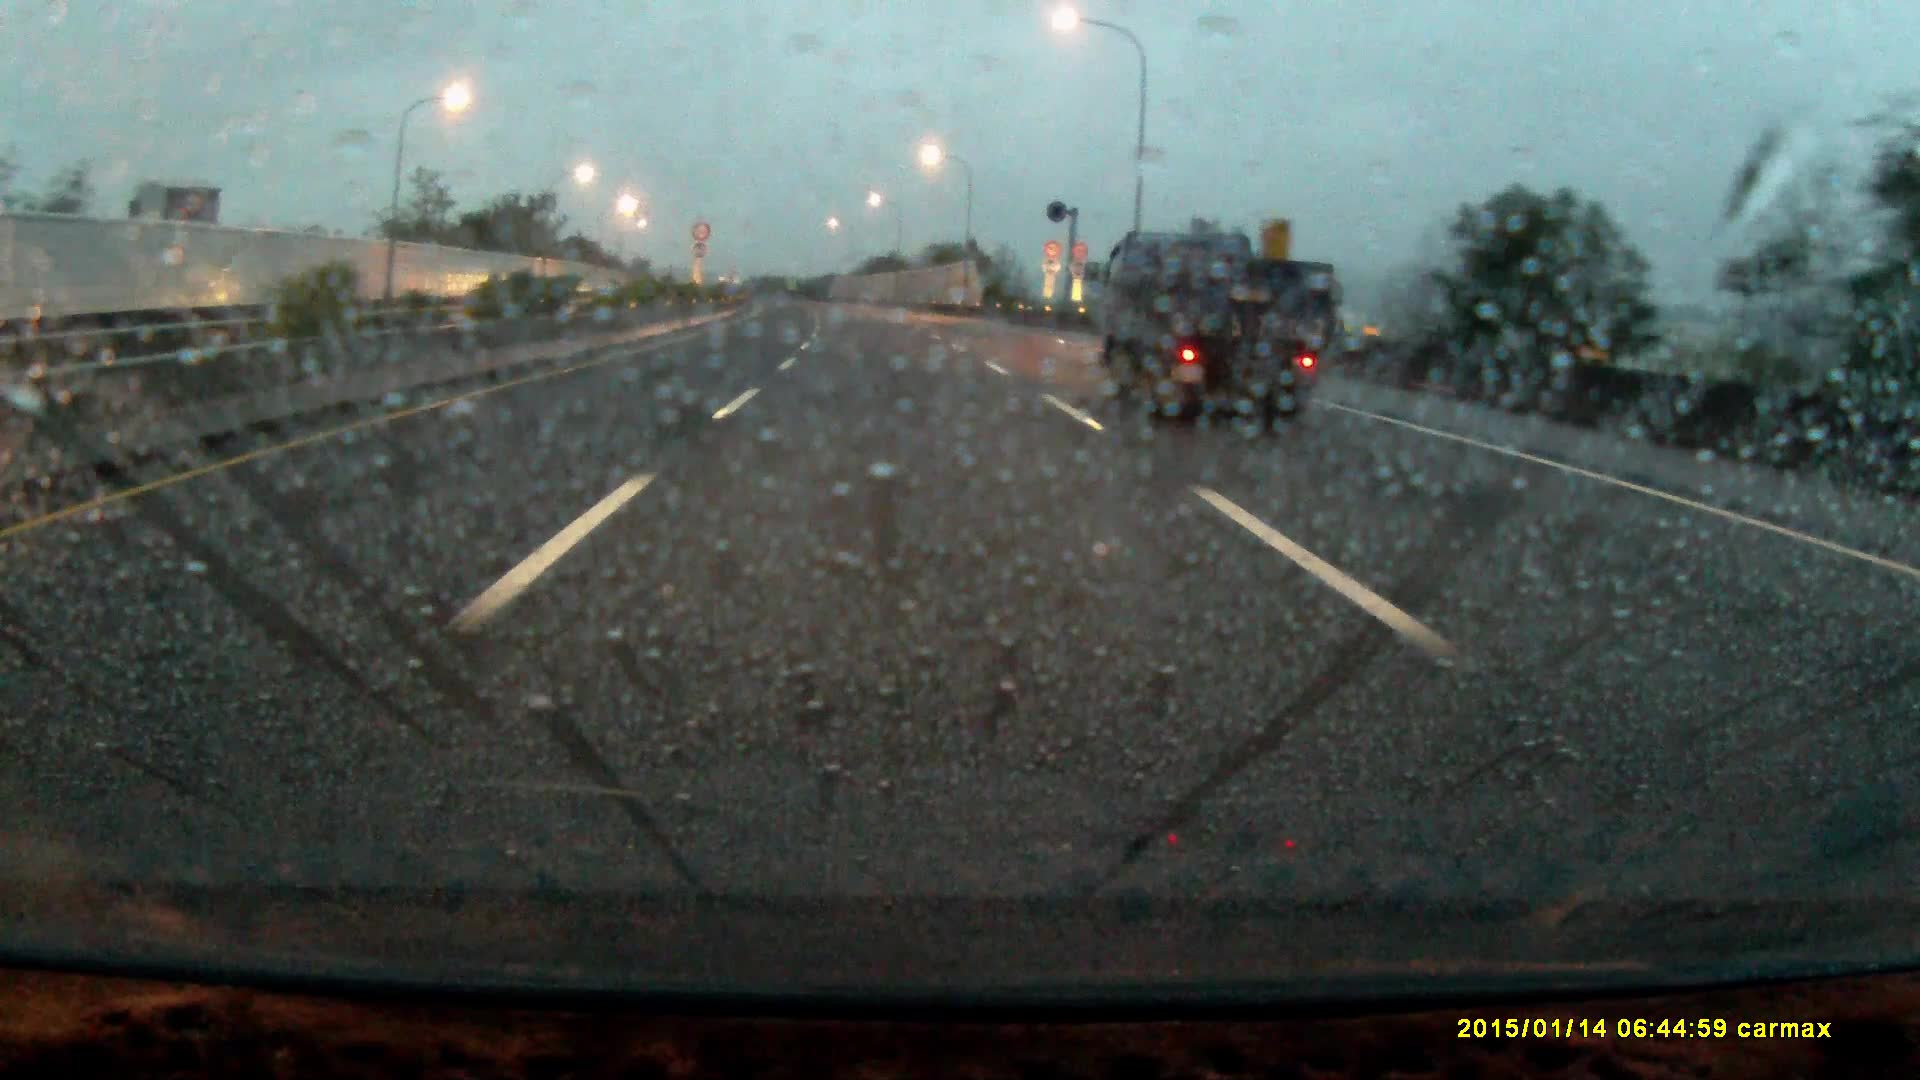vehicle: (1100, 239, 1333, 425)
